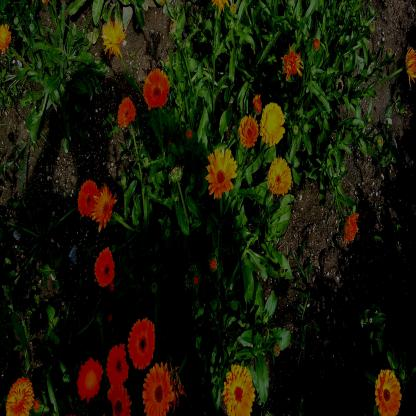marigold: (223, 366, 253, 416), (142, 366, 172, 415), (375, 366, 401, 416), (208, 150, 235, 193), (129, 319, 153, 367), (76, 358, 102, 400), (142, 70, 169, 109), (6, 378, 33, 415), (262, 104, 286, 142), (268, 158, 292, 196), (101, 20, 124, 58), (106, 385, 132, 416), (94, 188, 115, 226), (76, 180, 98, 216), (106, 346, 127, 382), (94, 250, 115, 283), (238, 112, 258, 146), (116, 97, 135, 124), (0, 26, 11, 48)
